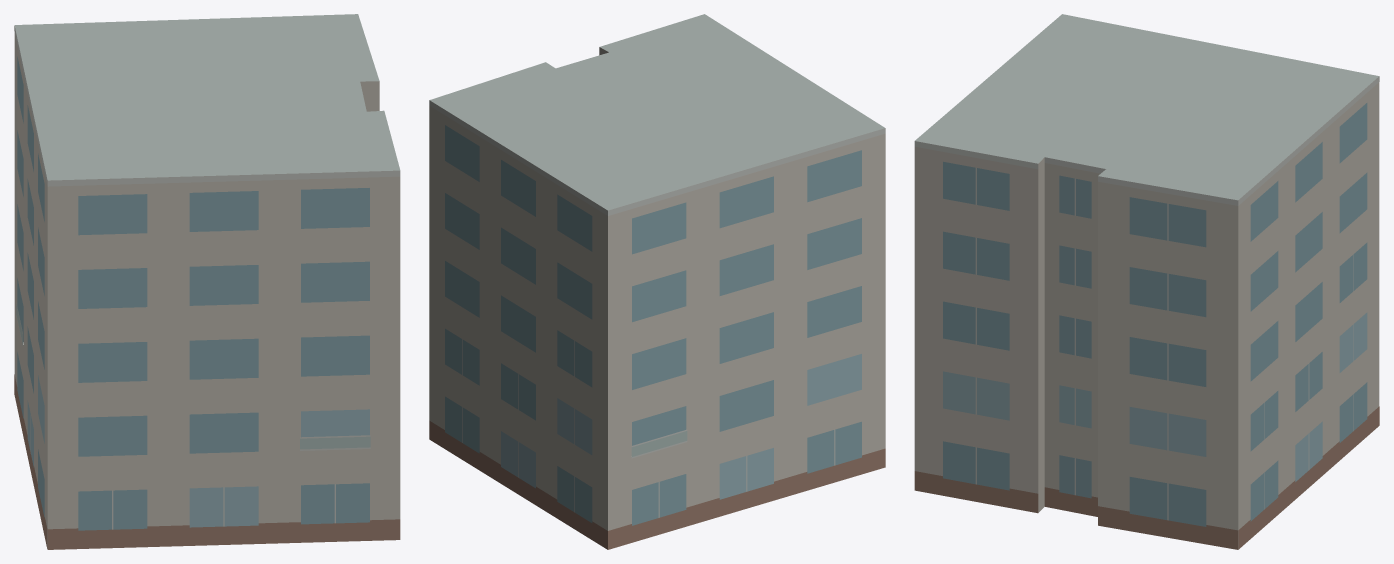
File: survey-upis-32480369.glb
3 views of the same model, side by side, from view 1: azimuth 30°, elevation 25°; view 2: azimuth 150°, elevation 25°; view 3: azimuth 270°, elevation 25° (orthographic). The views are drawn at different scales.
Visible parts, largest first — view 1: survey-upis-32480369.tmp; view 2: survey-upis-32480369.tmp; view 3: survey-upis-32480369.tmp.
Boxes of the visible parts, left/top/right/bottom form: survey-upis-32480369.tmp: left=14, top=14, right=400, bottom=549; survey-upis-32480369.tmp: left=429, top=14, right=885, bottom=549; survey-upis-32480369.tmp: left=914, top=14, right=1379, bottom=549.
Bounding box in the file's own units: 17.22 × 15.05 × 18.15.
